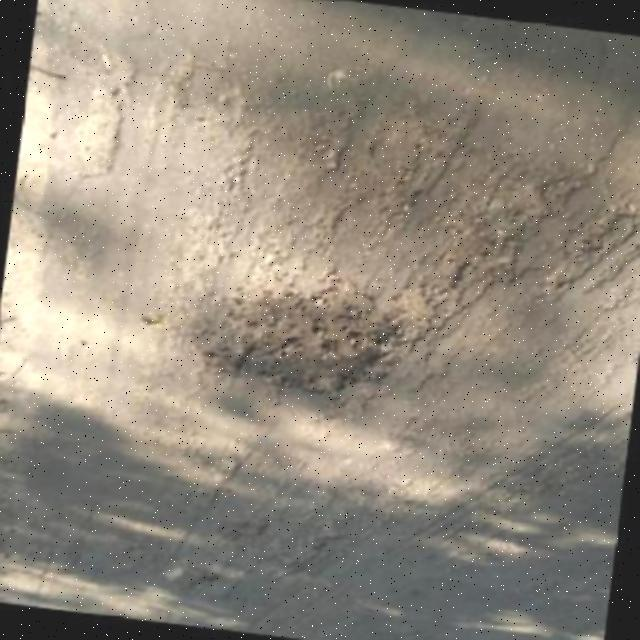Pothole: (195, 285, 428, 392)
